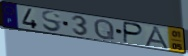3: (71, 15, 90, 37)
4: (22, 8, 39, 30)
A: (144, 26, 172, 50)
P: (123, 21, 145, 44)
Q: (93, 18, 116, 41)
S: (41, 11, 63, 34)
